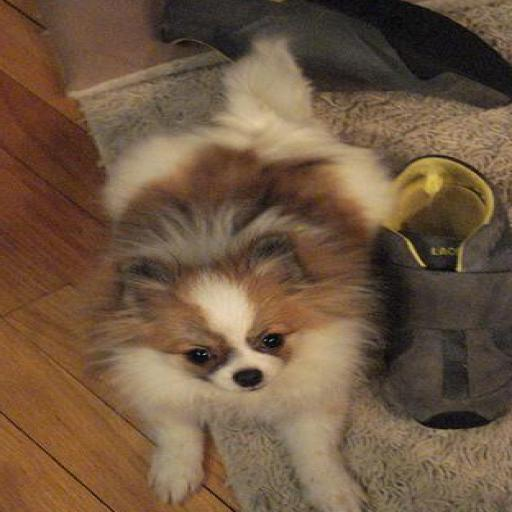dog_face: (119, 252, 342, 390)
